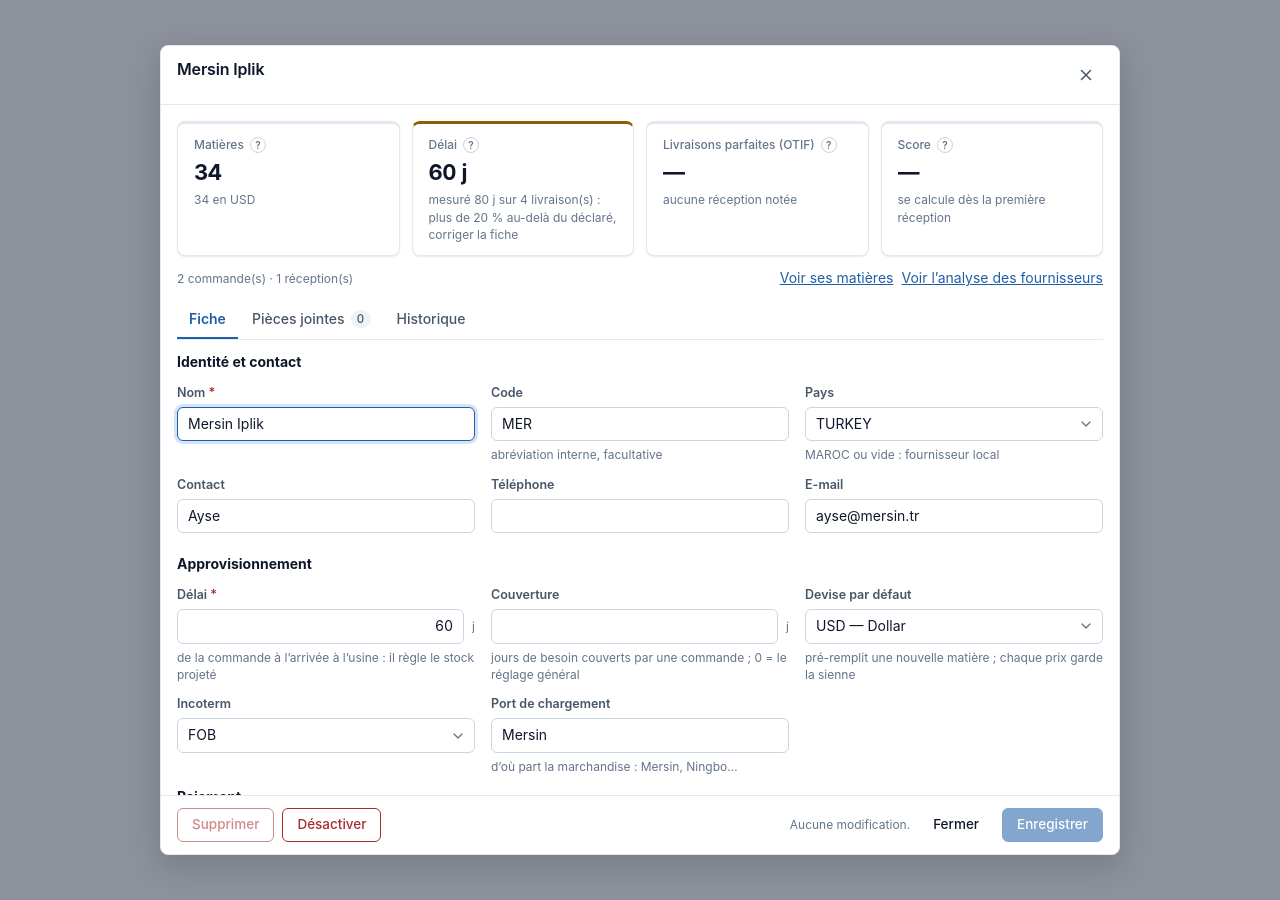
Test: Fiche fournisseur › 409 : le message du serveur et « Recharger la fiche »
Type " Demir" into the field labelled "Contact". click: (326, 516)
box: x1=177 y1=499 x2=475 y2=533
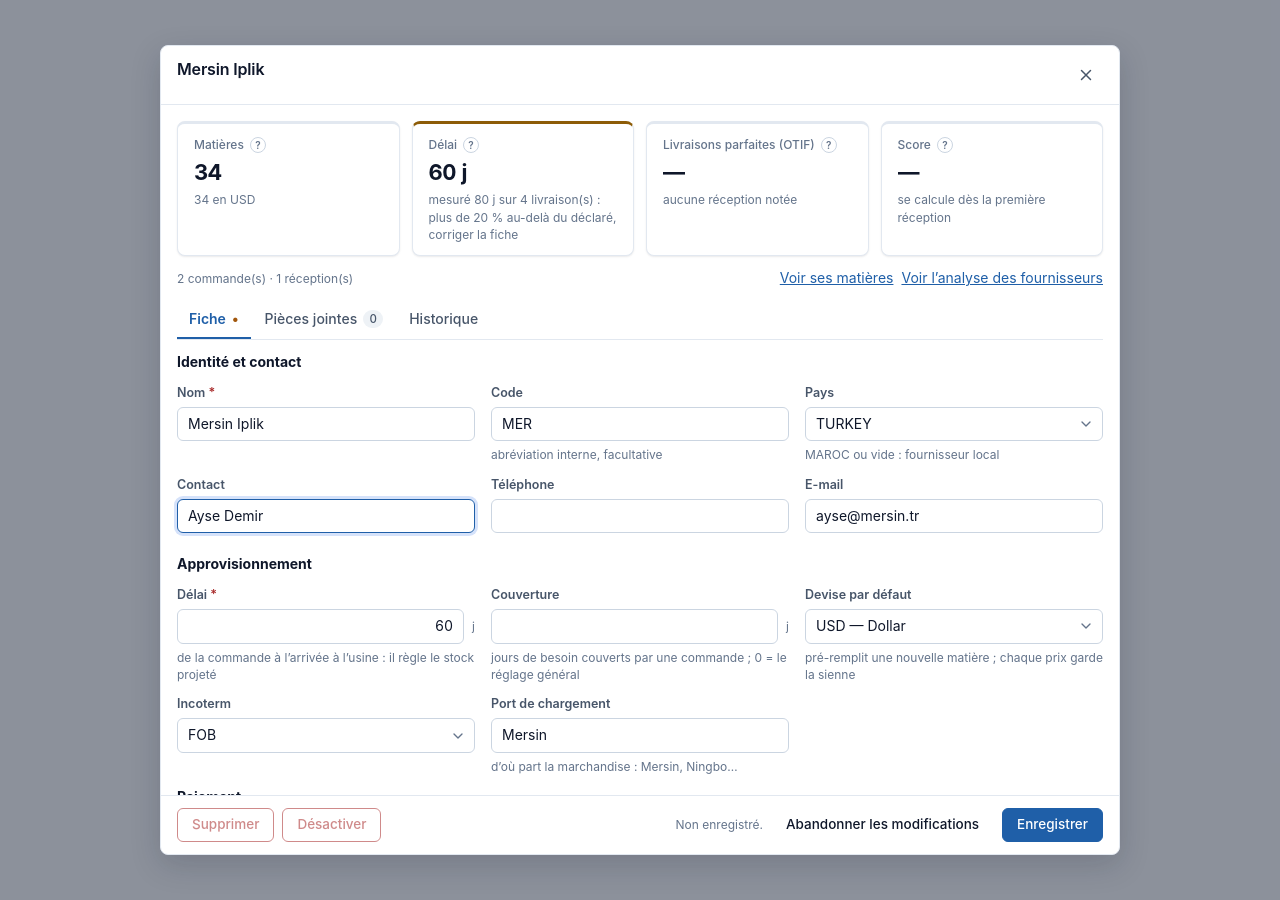
Click the button "Enregistrer". click: (1053, 825)
box: x1=1002 y1=808 x2=1103 y2=842
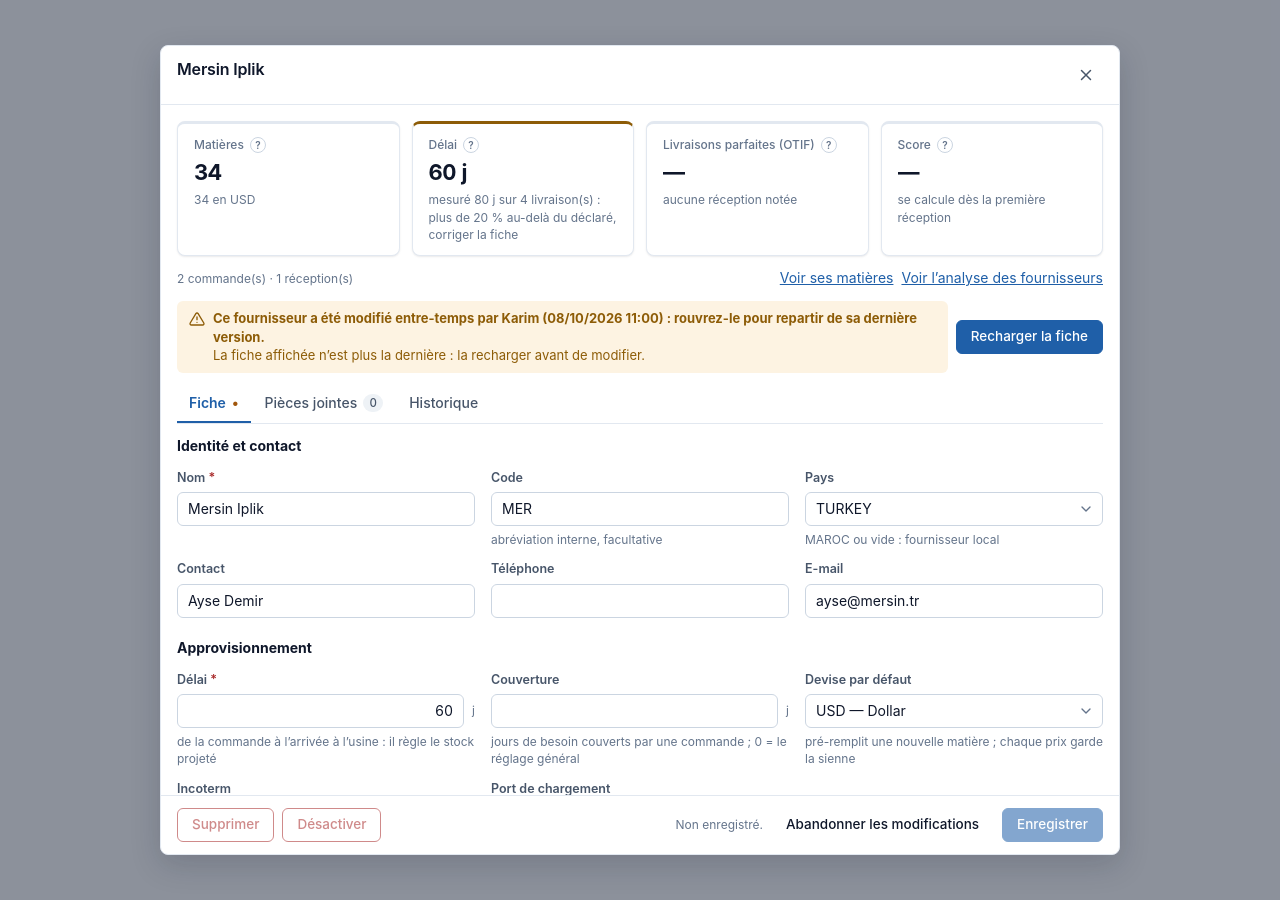
Now the field labelled "Contact" holds "Ayse Demir", box x1=177 y1=584 x2=475 y2=618
Now the text "modifié entre-temps par Karim" is shown, box x1=213 y1=310 x2=917 y2=345
Now the button "Recharger la fiche" is shown, box x1=956 y1=320 x2=1103 y2=354
